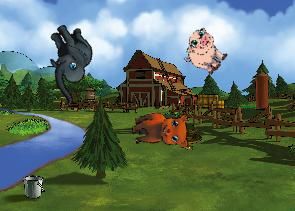bear: (128, 106, 193, 158)
elephant: (26, 17, 112, 106)
pig: (177, 24, 233, 79)
